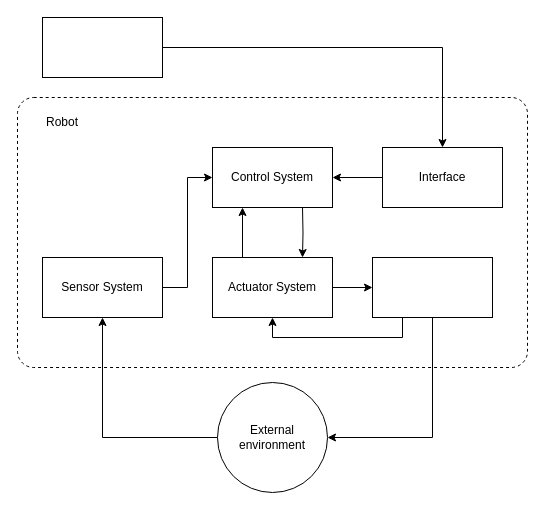
Image size: 545x510. Some labels were removed from this diagram. The shapes that lost their labels are listed below. From the top down, each one's centre as x and y in pixels, then its label:
At point 102,47: "Operator".
At point 432,287: "Motor System".
